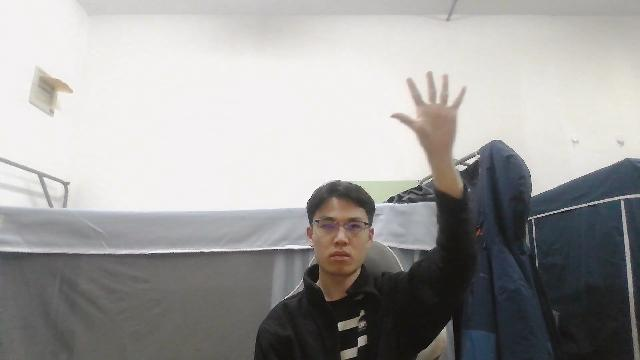five: (389, 70, 468, 162)
